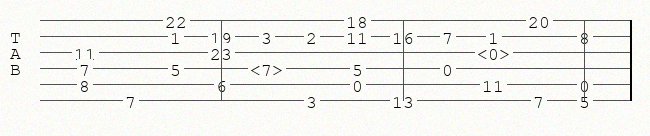0: (352, 77, 367, 92), (442, 61, 457, 76), (579, 77, 594, 92)
1: (170, 29, 185, 44), (488, 29, 503, 44)
11: (74, 45, 100, 60), (346, 29, 372, 44), (482, 77, 508, 92)
13: (392, 93, 418, 108)
16: (392, 29, 418, 44)
18: (346, 13, 372, 28)
19: (210, 29, 236, 44)
2: (306, 29, 321, 44)
20: (528, 13, 554, 28)
22: (165, 13, 191, 28)
23: (210, 45, 236, 60)
3: (261, 29, 276, 44), (306, 93, 321, 108)
5: (170, 61, 185, 76), (352, 61, 367, 76), (579, 93, 594, 108)
6: (216, 77, 231, 92)
7: (79, 61, 94, 76), (125, 93, 140, 108), (442, 29, 457, 44), (533, 93, 548, 108)
8: (79, 77, 94, 92), (579, 29, 594, 44)
harmonic: (250, 61, 287, 76), (477, 45, 514, 60)
